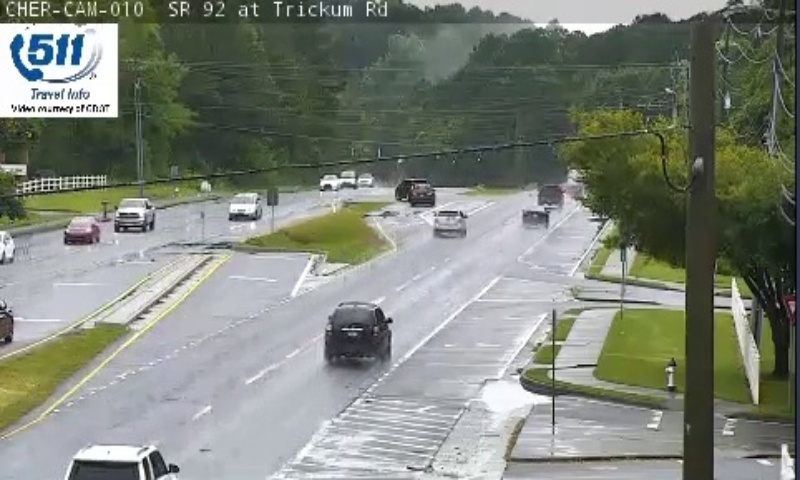car: (325, 303, 391, 355), (432, 209, 465, 234), (522, 207, 550, 227)
